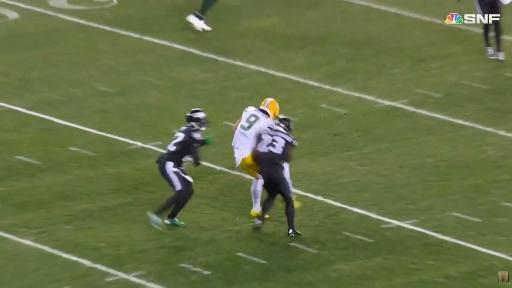Helmet: (186, 109, 209, 130), (261, 98, 279, 119), (276, 116, 293, 133)
Jersey: (232, 107, 274, 155), (164, 126, 205, 167), (256, 125, 297, 164)
Player: (148, 109, 211, 229), (253, 119, 301, 236), (232, 98, 279, 217), (186, 0, 217, 31), (483, 20, 504, 61), (283, 162, 292, 190)
